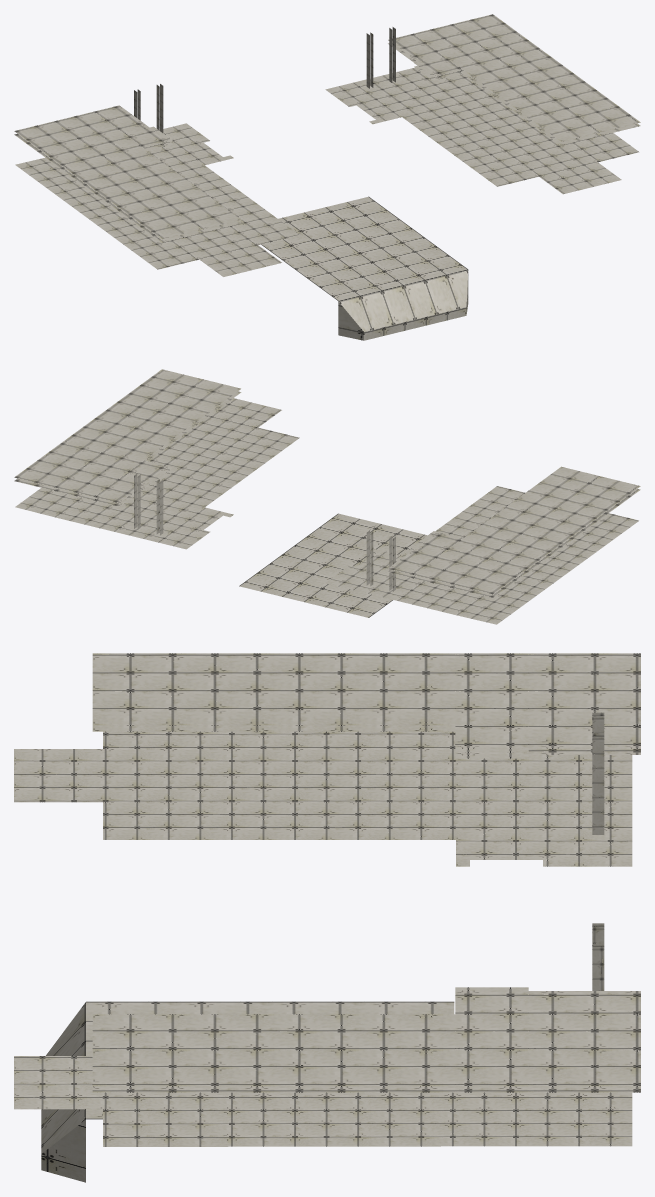
Rendered from floor_tex1.fbx.
The picture shows the model from 3 angles, top to bottom: view 1: azimuth 30°, elevation 25°; view 2: azimuth 150°, elevation 25°; view 3: azimuth 270°, elevation 25°; orthographic projection. The views are drawn at different scales.
Parts seen in each view (by area): view 1: floor_tex1; view 2: floor_tex1; view 3: floor_tex1.
Boxes of the visible parts, bbox=[...] form: floor_tex1: bbox=[14, 14, 640, 340]; floor_tex1: bbox=[14, 369, 640, 624]; floor_tex1: bbox=[14, 653, 640, 1182].
Bounding box in the file's own units: 838 × 264 × 509.
1 material, 1 textured.
